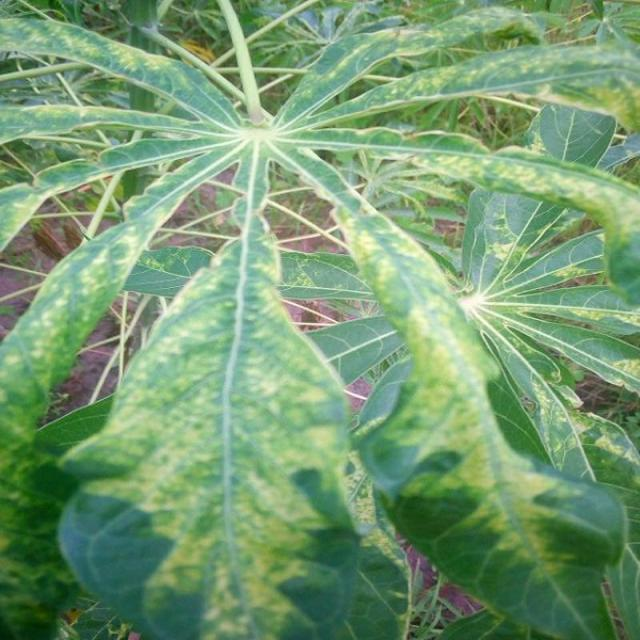cassava leaf: (1, 1, 638, 639), (56, 213, 402, 638)
